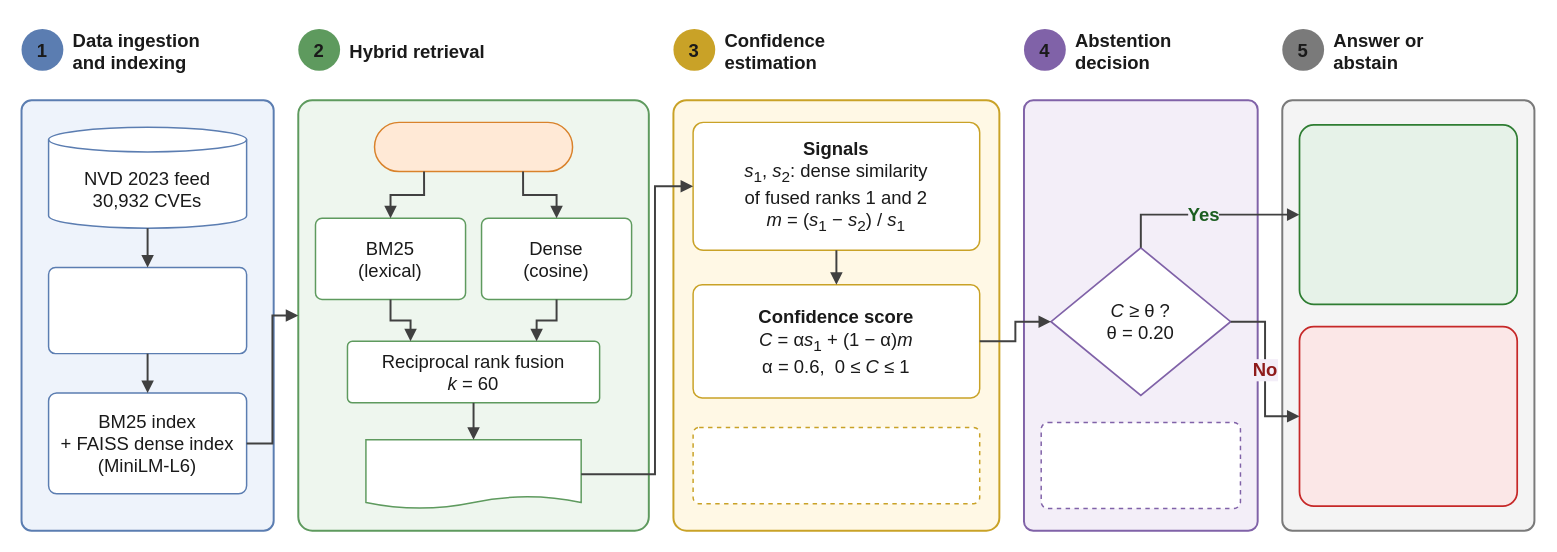
Image size: 1557x552. Some labels were removed from this diagram. The shapes that lost their labels are listed below. From the top down, each one's centre as x and y in pixels, then its label:
At point (473, 146): "Query q".
At point (1407, 214): "Answer Llama-3.2 (3B) answers from the top-5 records, citing CVE IDs".
At point (147, 310): "Filter and tag (CVE, severity, CWE)".
At point (1407, 415): "Abstain Return “Insufficient context”; the LLM is not called".
At point (473, 473): "Top-5 fused records".
At point (836, 465): "Top record found only by BM25: s 1 = 0, so C = 0".
At point (1140, 465): "Higher θ: fewer but more reliable answers".
